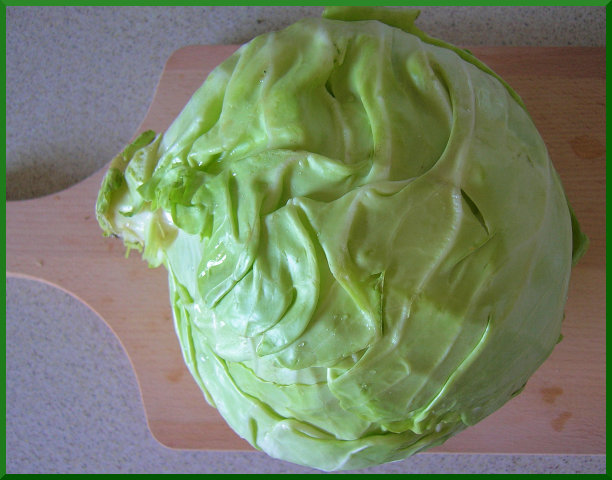cabbage: (93, 1, 589, 471)
